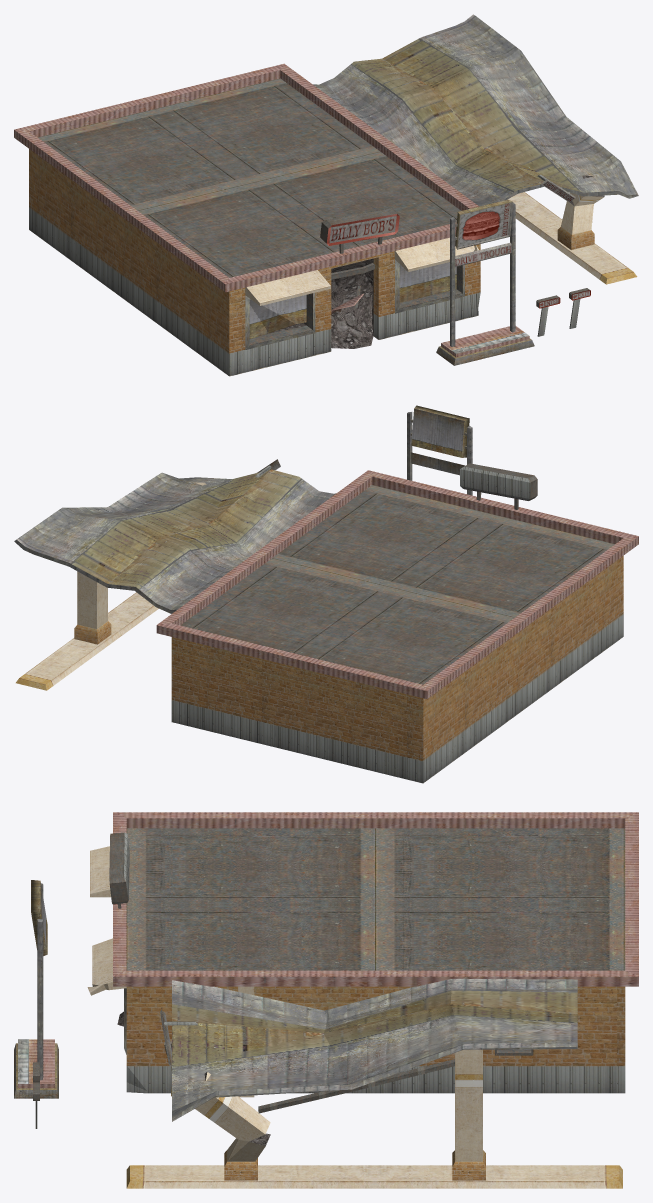
Rendered from Drive_Through.fbx.
The picture shows the model from 3 angles, top to bottom: view 1: azimuth 30°, elevation 25°; view 2: azimuth 150°, elevation 25°; view 3: azimuth 270°, elevation 25°; orthographic projection. The views are drawn at different scales.
Visible parts, largest first — view 1: drivetrough, grootbord; view 2: drivetrough, grootbord; view 3: drivetrough, grootbord.
Part boxes in pixels (x1,y1,x2,y2): drivetrough: [14, 14, 638, 376]; grootbord: [436, 199, 534, 365]; drivetrough: [14, 459, 638, 783]; grootbord: [407, 405, 472, 495]; drivetrough: [87, 812, 638, 1188]; grootbord: [14, 880, 58, 1098].
Bounding box in the file's own units: 1393 × 435 × 1386.
